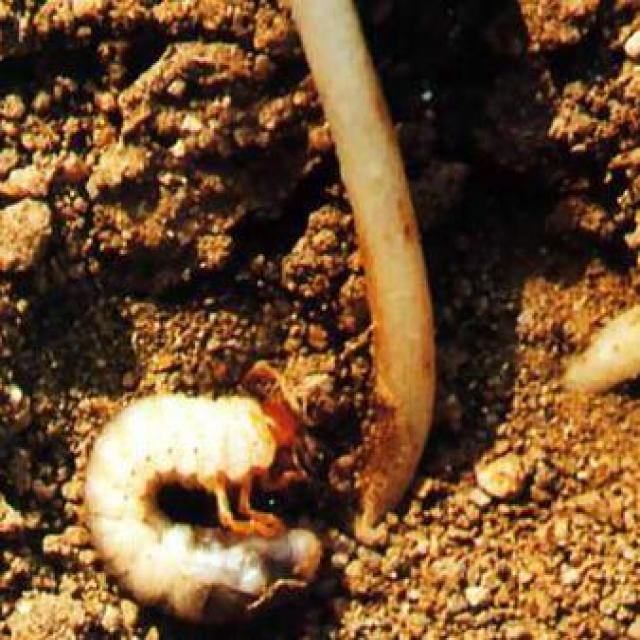Grub-Adult-: (60, 368, 324, 624)
